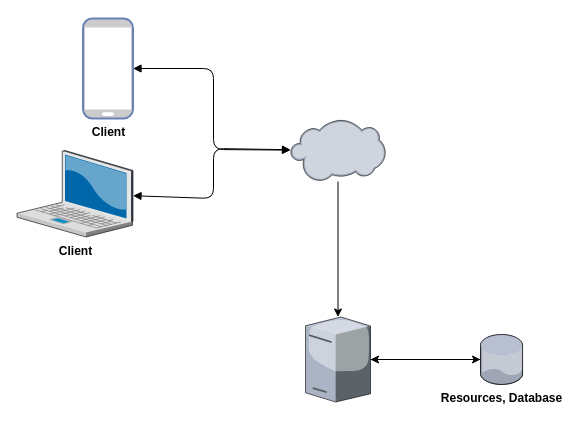
Image size: 580x440. Some labels were removed from this diagram. The shapes that lost their labels are listed below. From the top down, each one's centre as x and y in pixels, then its label:
[337,150]: Internet
[337,359]: Web Application
